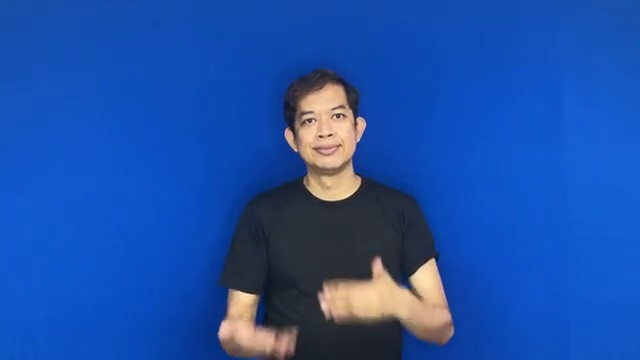bread: (206, 246, 429, 357)
